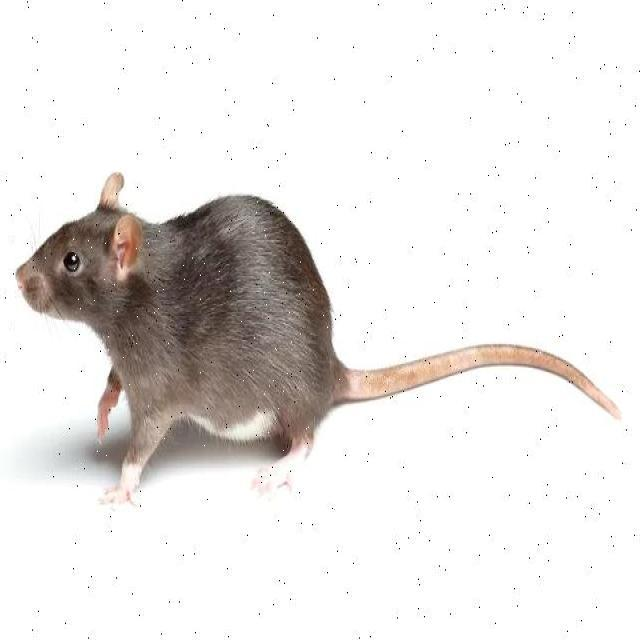rat: (16, 171, 626, 509)
